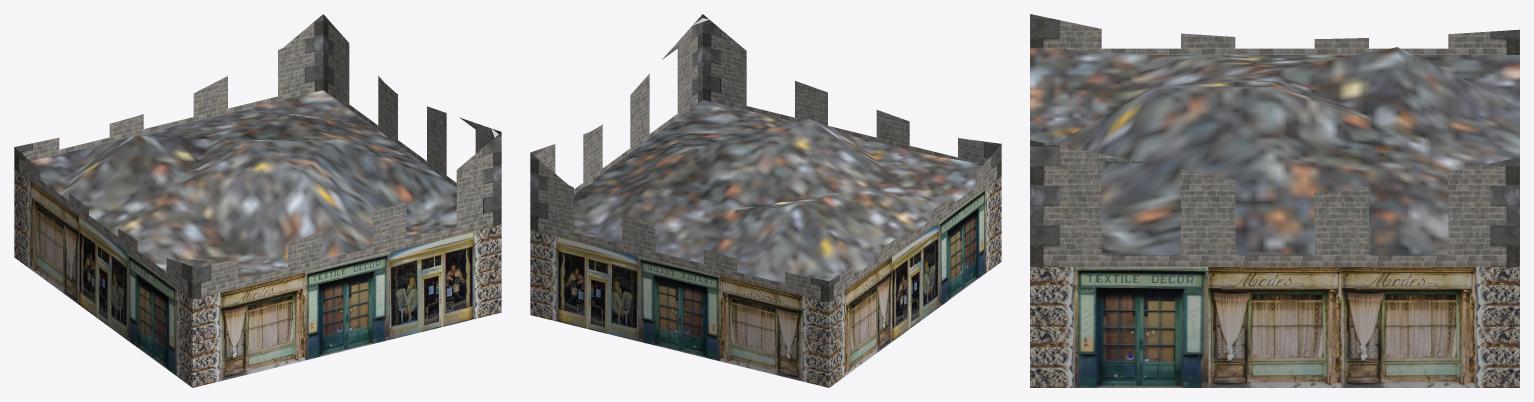
Rendered from House_007_destroyed_004.dae.
3 renders of one model, left to right at view 1: azimuth 30°, elevation 25°; view 2: azimuth 150°, elevation 25°; view 3: azimuth 270°, elevation 25°, orthographic. The views are drawn at different scales.
Visible parts, largest first — view 1: House_007; view 2: House_007; view 3: House_007.
Part boxes in pixels (x1=…): House_007: x1=14, y1=14, x2=501, y2=387; House_007: x1=530, y1=14, x2=1001, y2=387; House_007: x1=1030, y1=14, x2=1519, y2=387.
Size of the model in its own units: 88 by 88 by 49.13.
Materials: 1 (1 with a texture image).
